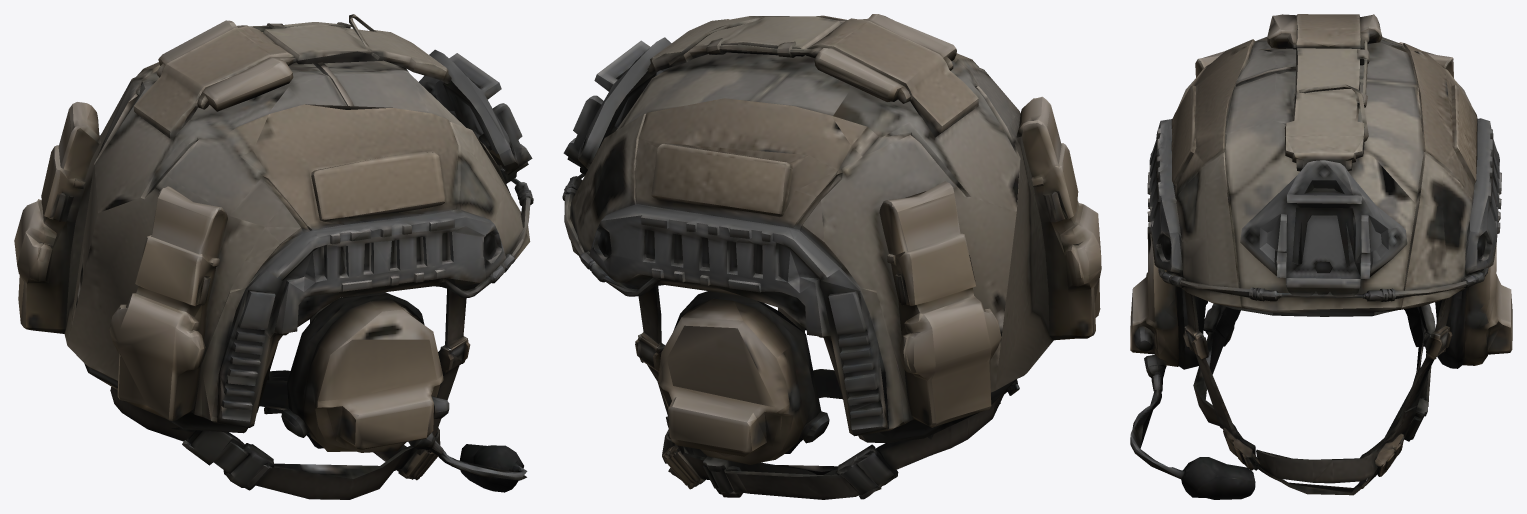
Rendered from helmet_tac.glb.
3 renders of one model, left to right at view 1: azimuth 30°, elevation 25°; view 2: azimuth 150°, elevation 25°; view 3: azimuth 270°, elevation 25°, orthographic. The views are drawn at different scales.
Parts seen in each view (by area): view 1: prop; view 2: prop; view 3: prop.
Part boxes in pixels (x1,y1,x2,y2): prop: [14, 14, 533, 499]; prop: [562, 14, 1101, 499]; prop: [1130, 14, 1512, 499].
Bounding box in the file's own units: 0.998 × 0.9907 × 0.8456.
Materials: 1 (1 with a texture image).
